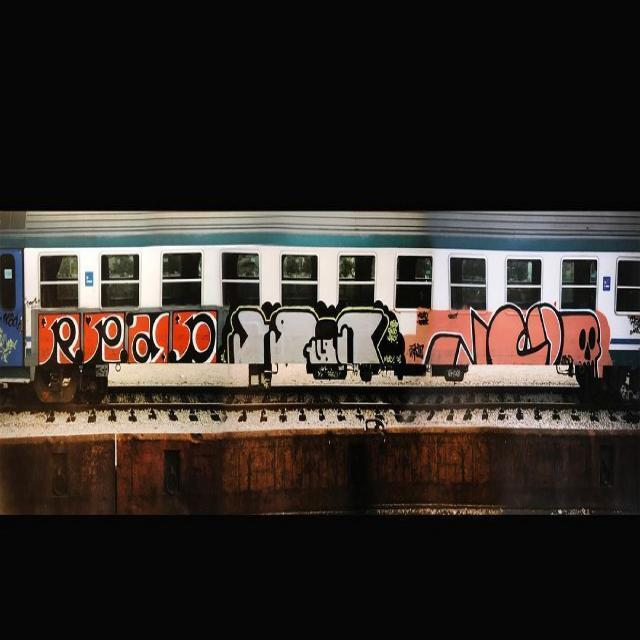-: (222, 290, 399, 402), (398, 304, 614, 390), (31, 304, 220, 384)
